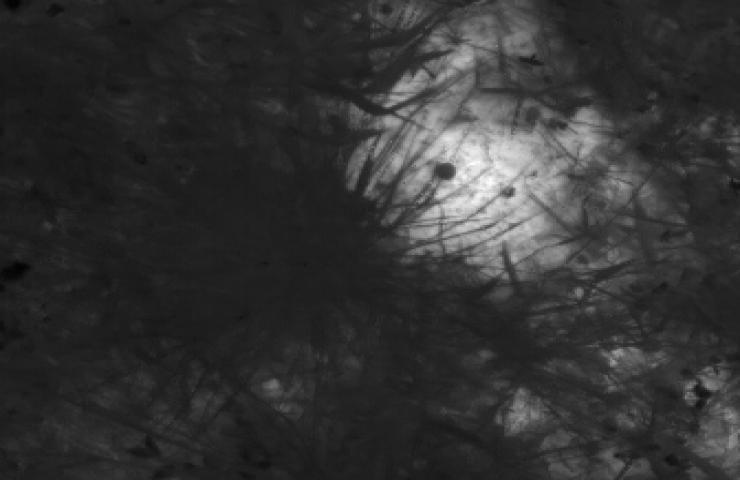landmines: (330, 1, 678, 305)
